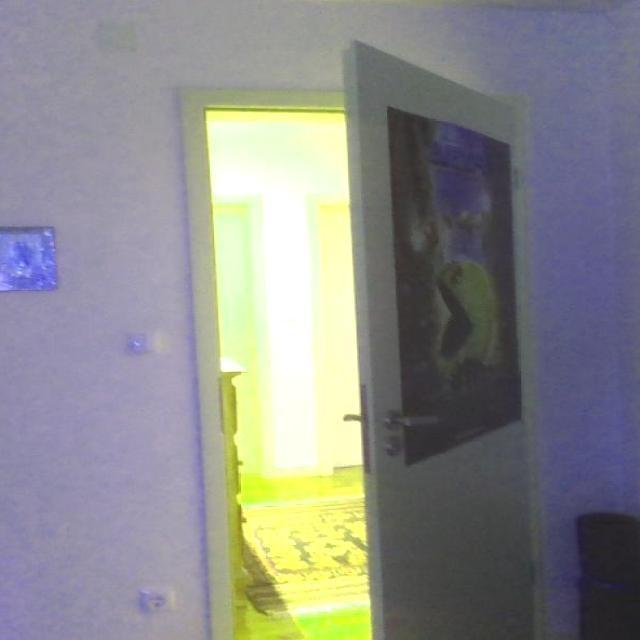door: (344, 38, 546, 638)
